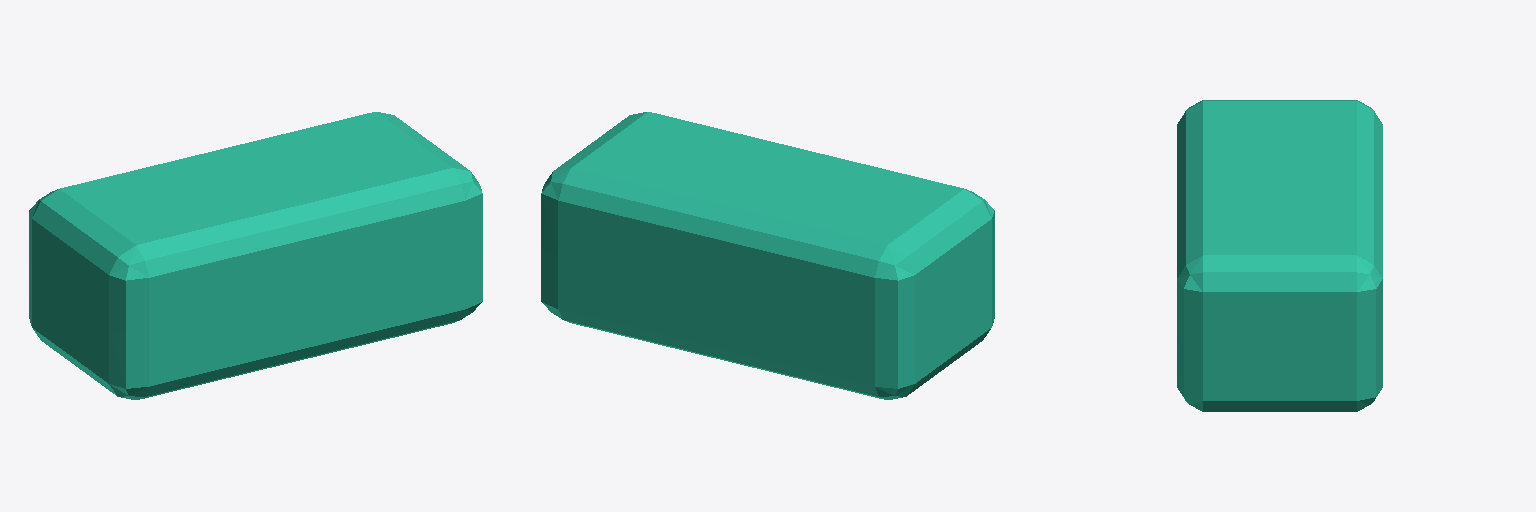
3 renders of one model, left to right at view 1: azimuth 30°, elevation 25°; view 2: azimuth 150°, elevation 25°; view 3: azimuth 270°, elevation 25°, orthographic.
Parts seen in each view (by area): view 1: OriginalBrick_Cube.002; view 2: OriginalBrick_Cube.002; view 3: OriginalBrick_Cube.002.
Part boxes in pixels (left/top/right/bottom): OriginalBrick_Cube.002: left=29, top=112, right=482, bottom=399; OriginalBrick_Cube.002: left=541, top=112, right=994, bottom=399; OriginalBrick_Cube.002: left=1177, top=100, right=1382, bottom=411.
Size of the model in its own units: 0.9 by 0.36 by 0.4316.
1 materials, 1 textured.